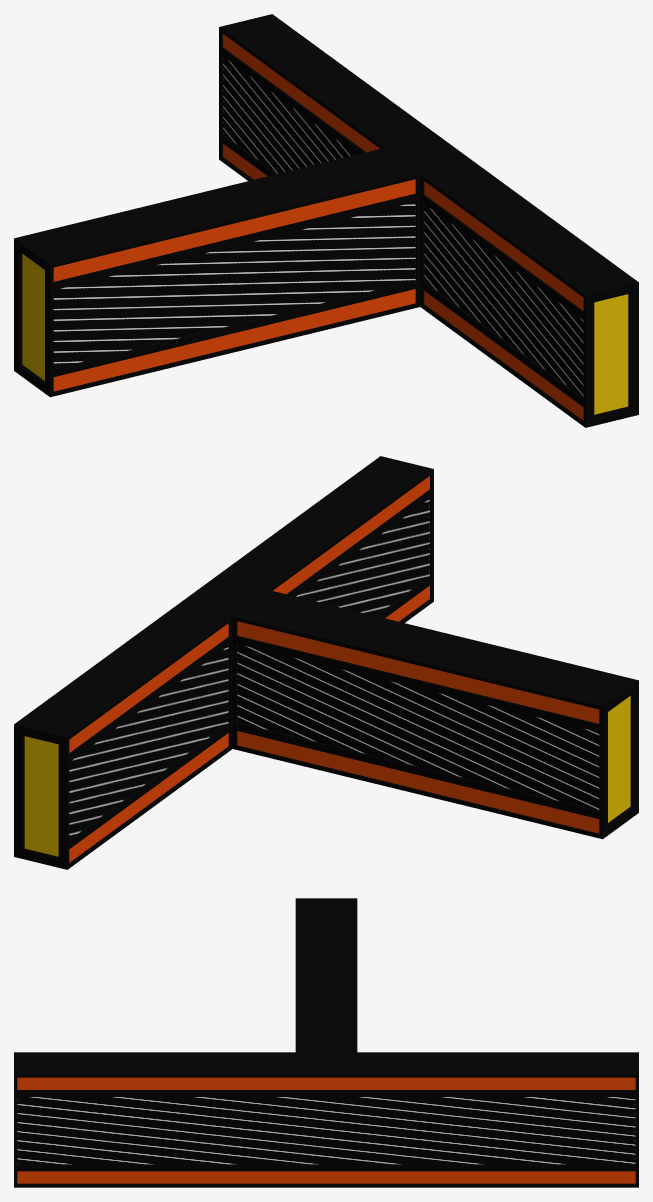
Rendered from Tpiece.fbx.
3 renders of one model, top to bottom at view 1: azimuth 30°, elevation 25°; view 2: azimuth 150°, elevation 25°; view 3: azimuth 270°, elevation 25°, orthographic. The views are drawn at different scales.
Visible parts, largest first — view 1: Tpiece; view 2: Tpiece; view 3: Tpiece.
Boxes of the visible parts, left/top/right/bottom form: Tpiece: left=14, top=14, right=638, bottom=427; Tpiece: left=14, top=456, right=638, bottom=869; Tpiece: left=14, top=898, right=638, bottom=1187.
Bounding box in the file's own units: 612 × 183 × 917.
Materials: 4 (1 with a texture image).
